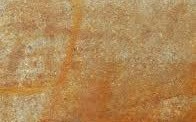Corrosion: (1, 1, 196, 122)
